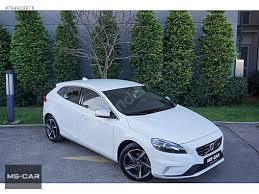car: (45, 77, 224, 183)
